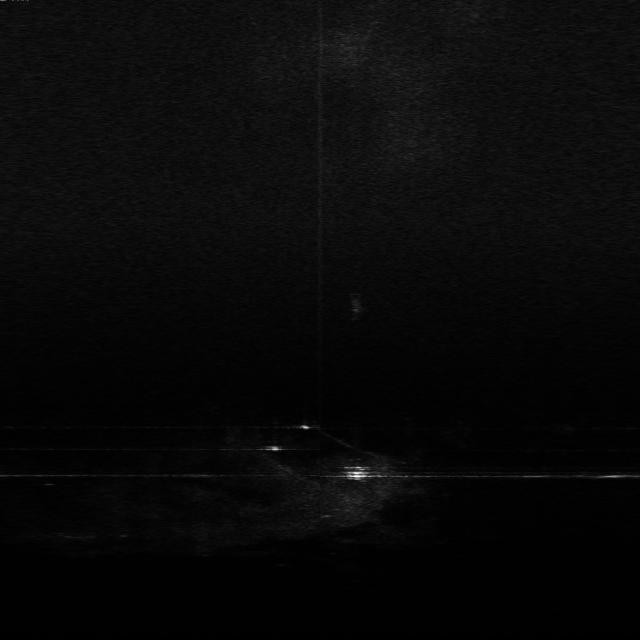rov: (346, 462, 372, 482)
